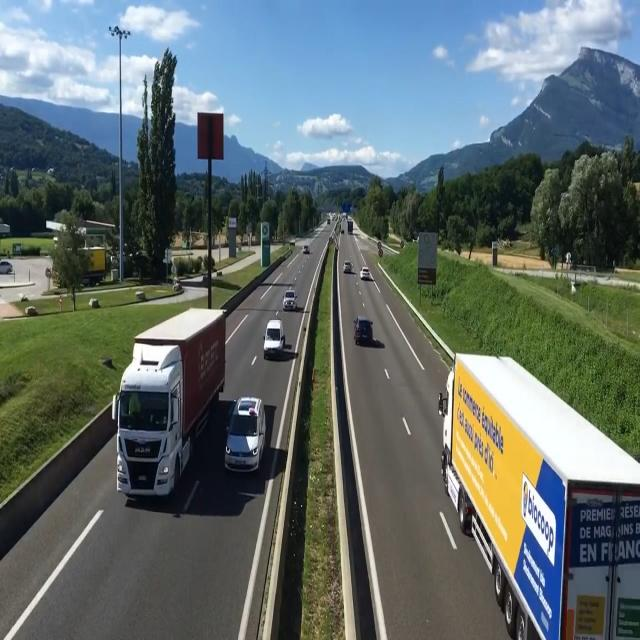car: (224, 395, 265, 476), (264, 312, 291, 362), (353, 314, 375, 349), (279, 285, 299, 313), (360, 264, 372, 283), (343, 258, 354, 277)
truck: (433, 338, 616, 618), (122, 323, 194, 511)
